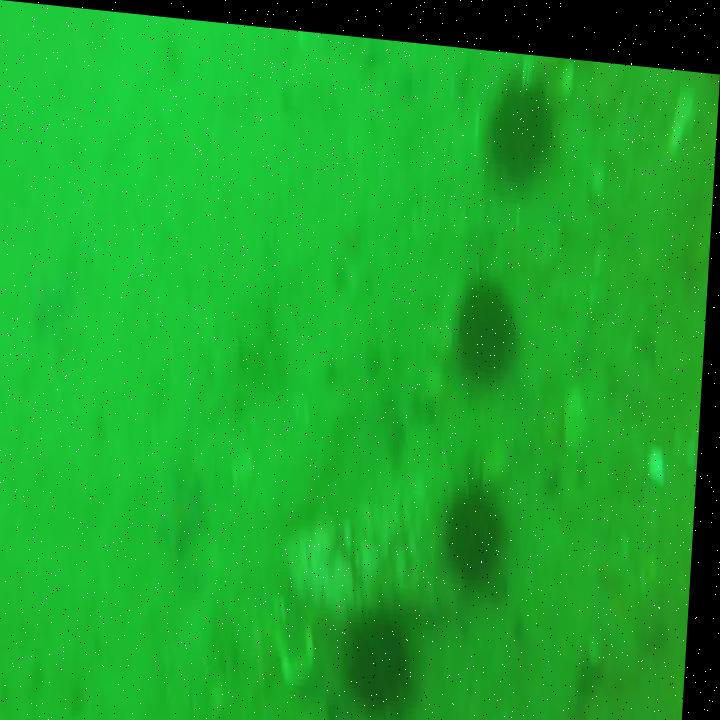echinus: (481, 61, 554, 170), (455, 264, 525, 371), (455, 467, 510, 573), (353, 609, 412, 702)
starfish: (159, 461, 215, 558)
